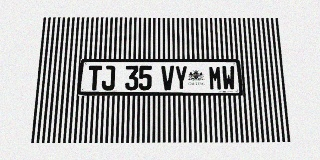3: (125, 66, 139, 90)
5: (139, 66, 152, 90)
J: (101, 66, 115, 90)
M: (208, 66, 222, 90)
T: (88, 66, 102, 90)
V: (161, 66, 174, 90)
W: (222, 66, 236, 90)
Y: (175, 66, 188, 90)
